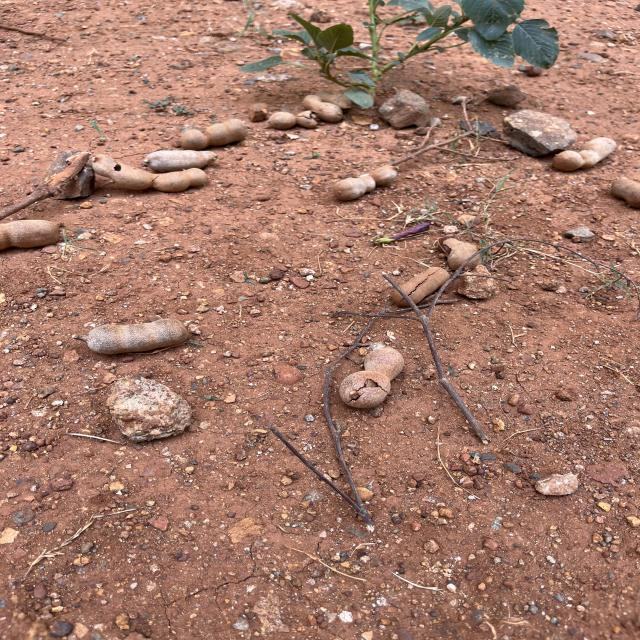tamarind: (93, 154, 208, 195), (336, 345, 404, 410), (86, 317, 190, 357), (390, 262, 448, 308), (331, 164, 398, 200), (178, 117, 247, 148), (0, 219, 63, 249), (152, 149, 218, 170), (302, 93, 345, 123), (270, 110, 318, 128)
